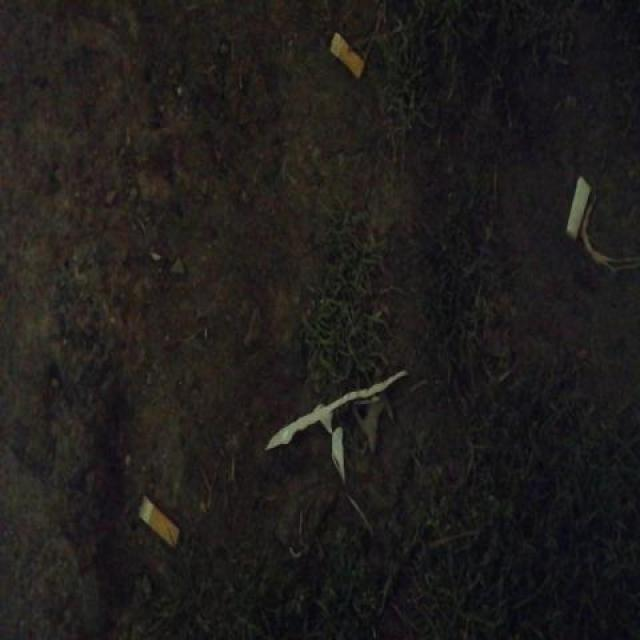non-organic waste: (133, 492, 183, 552), (325, 29, 368, 84), (562, 170, 593, 242)
